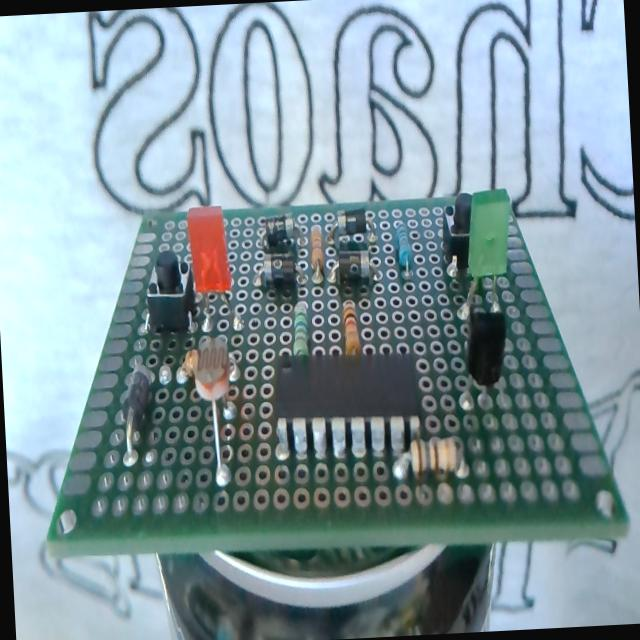IC: (267, 351, 424, 461)
cds: (190, 332, 242, 490)
diode: (111, 356, 161, 472), (326, 248, 380, 290), (249, 253, 305, 293), (256, 213, 306, 252), (325, 208, 375, 246)
led: (450, 185, 517, 312), (185, 196, 238, 330)
resistor: (394, 439, 466, 485), (392, 217, 413, 283), (305, 222, 326, 284), (289, 304, 310, 357), (340, 302, 360, 356)
switch: (137, 250, 191, 340)
transistor: (456, 311, 512, 408)
